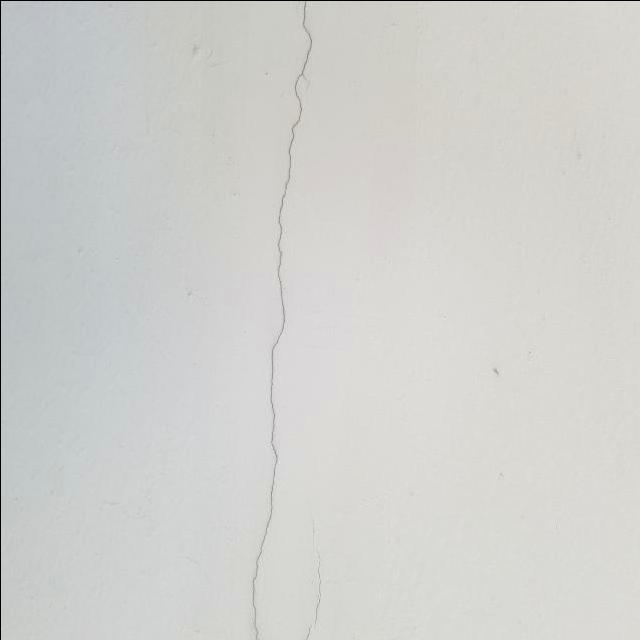SurfaceCrack: (197, 0, 366, 640)
